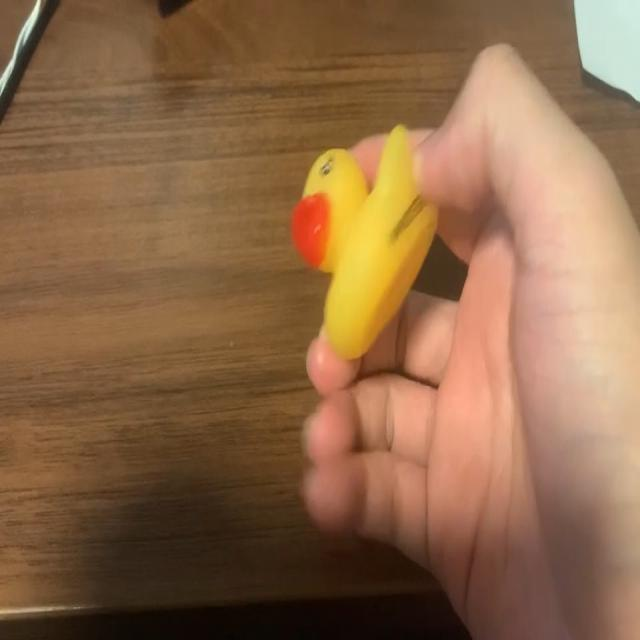rubber-duck: (290, 124, 435, 357)
